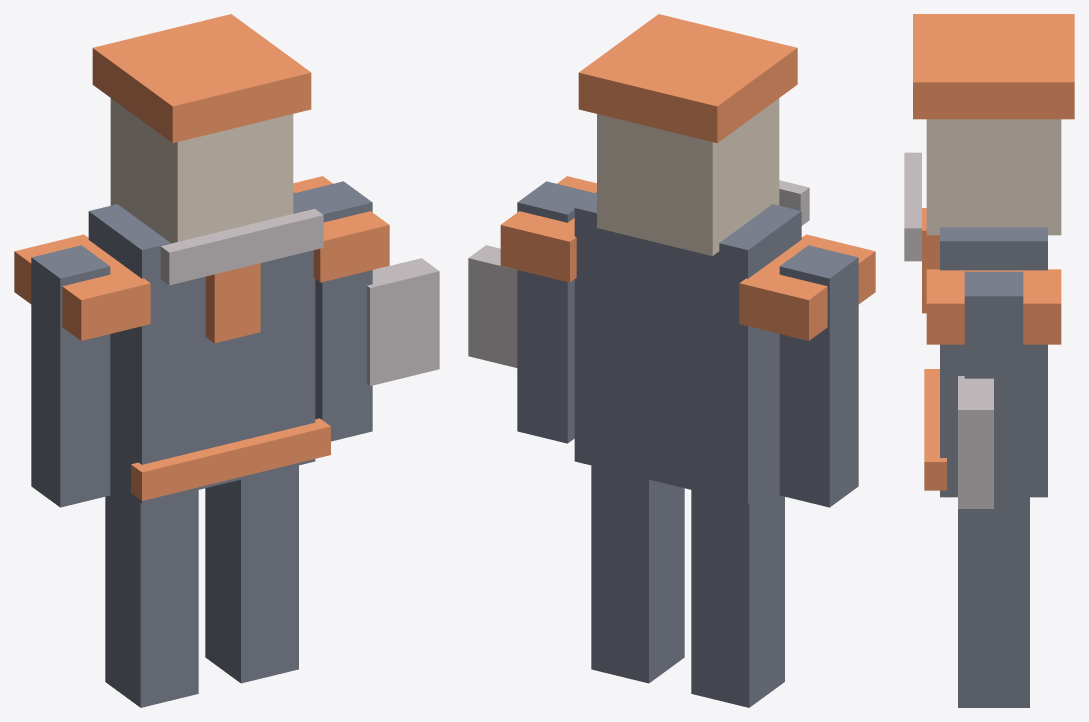
File: 19_tovin_gantryn_broker_under_defense.glb
3 views of the same model, side by side, from view 1: azimuth 30°, elevation 25°; view 2: azimuth 150°, elevation 25°; view 3: azimuth 270°, elevation 25° (orthographic).
Parts seen in each view (by area): view 1: Tovin Gantryn, Broker under Defense; view 2: Tovin Gantryn, Broker under Defense; view 3: Tovin Gantryn, Broker under Defense.
Boxes of the visible parts, left/top/right/bottom form: Tovin Gantryn, Broker under Defense: left=14, top=14, right=439, bottom=707; Tovin Gantryn, Broker under Defense: left=468, top=14, right=875, bottom=707; Tovin Gantryn, Broker under Defense: left=904, top=14, right=1074, bottom=707.
Size of the model in its own units: 1.04 by 1.62 by 0.404.
